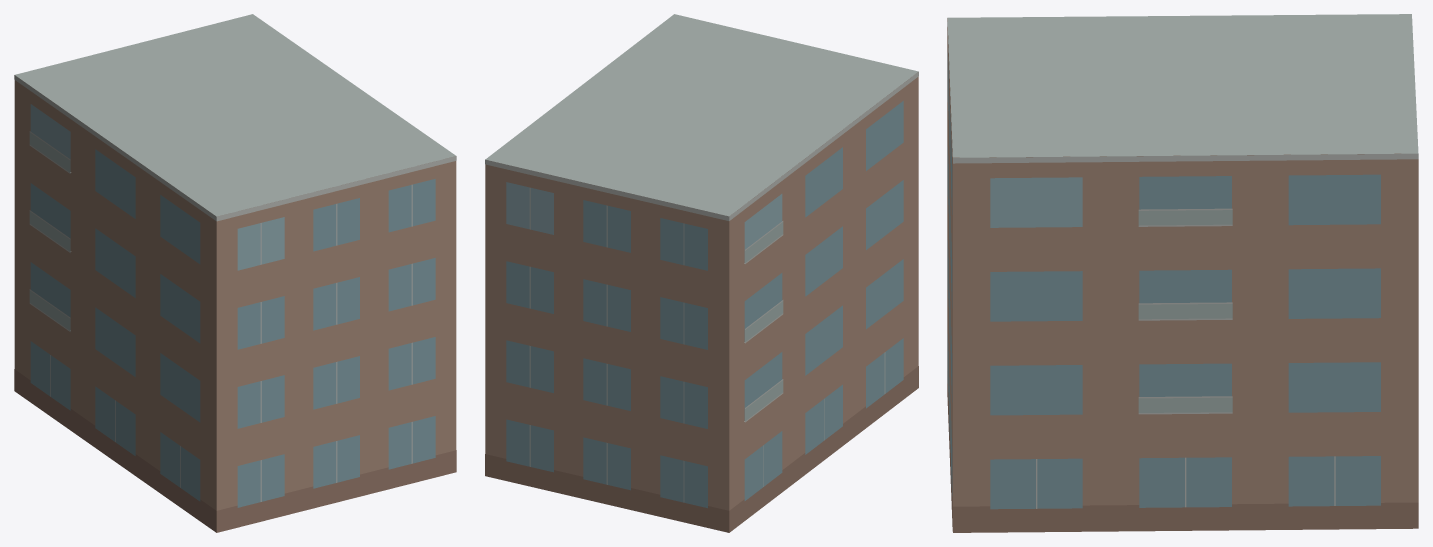
Rendered from survey-upis-32761428.glb.
3 renders of one model, left to right at view 1: azimuth 30°, elevation 25°; view 2: azimuth 150°, elevation 25°; view 3: azimuth 270°, elevation 25°, orthographic. The views are drawn at different scales.
Parts seen in each view (by area): view 1: survey-upis-32761428.tmp; view 2: survey-upis-32761428.tmp; view 3: survey-upis-32761428.tmp.
Part boxes in pixels (x1,y1,x2,y2): survey-upis-32761428.tmp: (14,14,456,532); survey-upis-32761428.tmp: (485,14,918,532); survey-upis-32761428.tmp: (947,14,1418,532).
Size of the model in its own units: 13.17 by 16 by 18.22.
